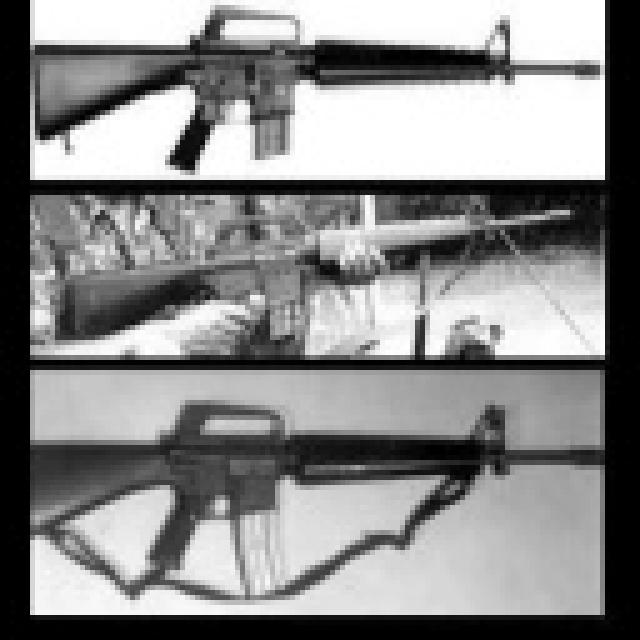Rifle: (13, 363, 640, 631), (0, 177, 608, 366), (3, 0, 638, 171)
